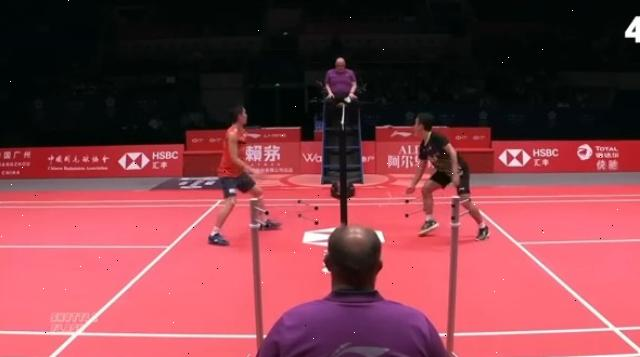Shuttlecock: (342, 93, 356, 104)
